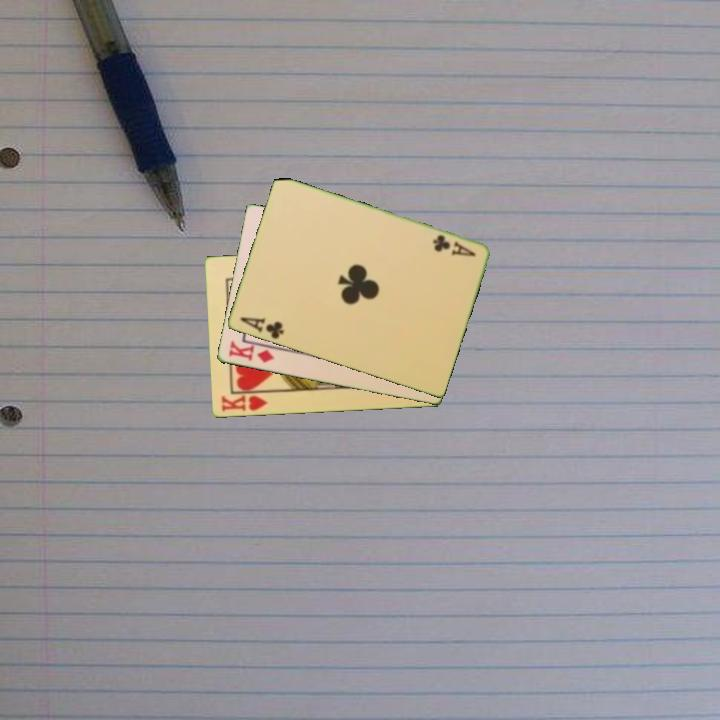Ac: (236, 313, 287, 342), (428, 231, 479, 260)
Kd: (225, 338, 277, 366)
Kh: (217, 389, 273, 415)
